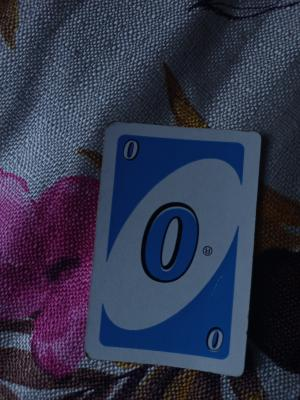blue: (116, 131, 236, 359)
num_0: (204, 320, 229, 357), (120, 134, 143, 166)
